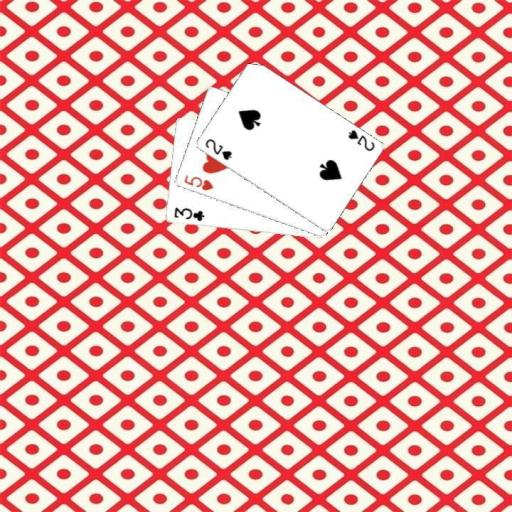card-corner: (345, 126, 376, 153), (202, 136, 233, 161), (170, 204, 206, 223), (180, 172, 214, 192)
